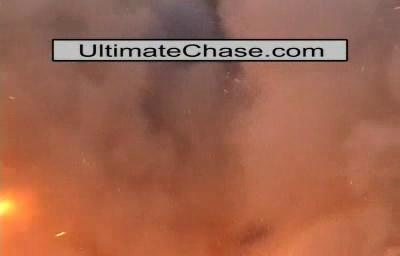fire: (0, 194, 21, 222)
smoke: (5, 66, 395, 165), (75, 170, 390, 245), (12, 2, 396, 37)
